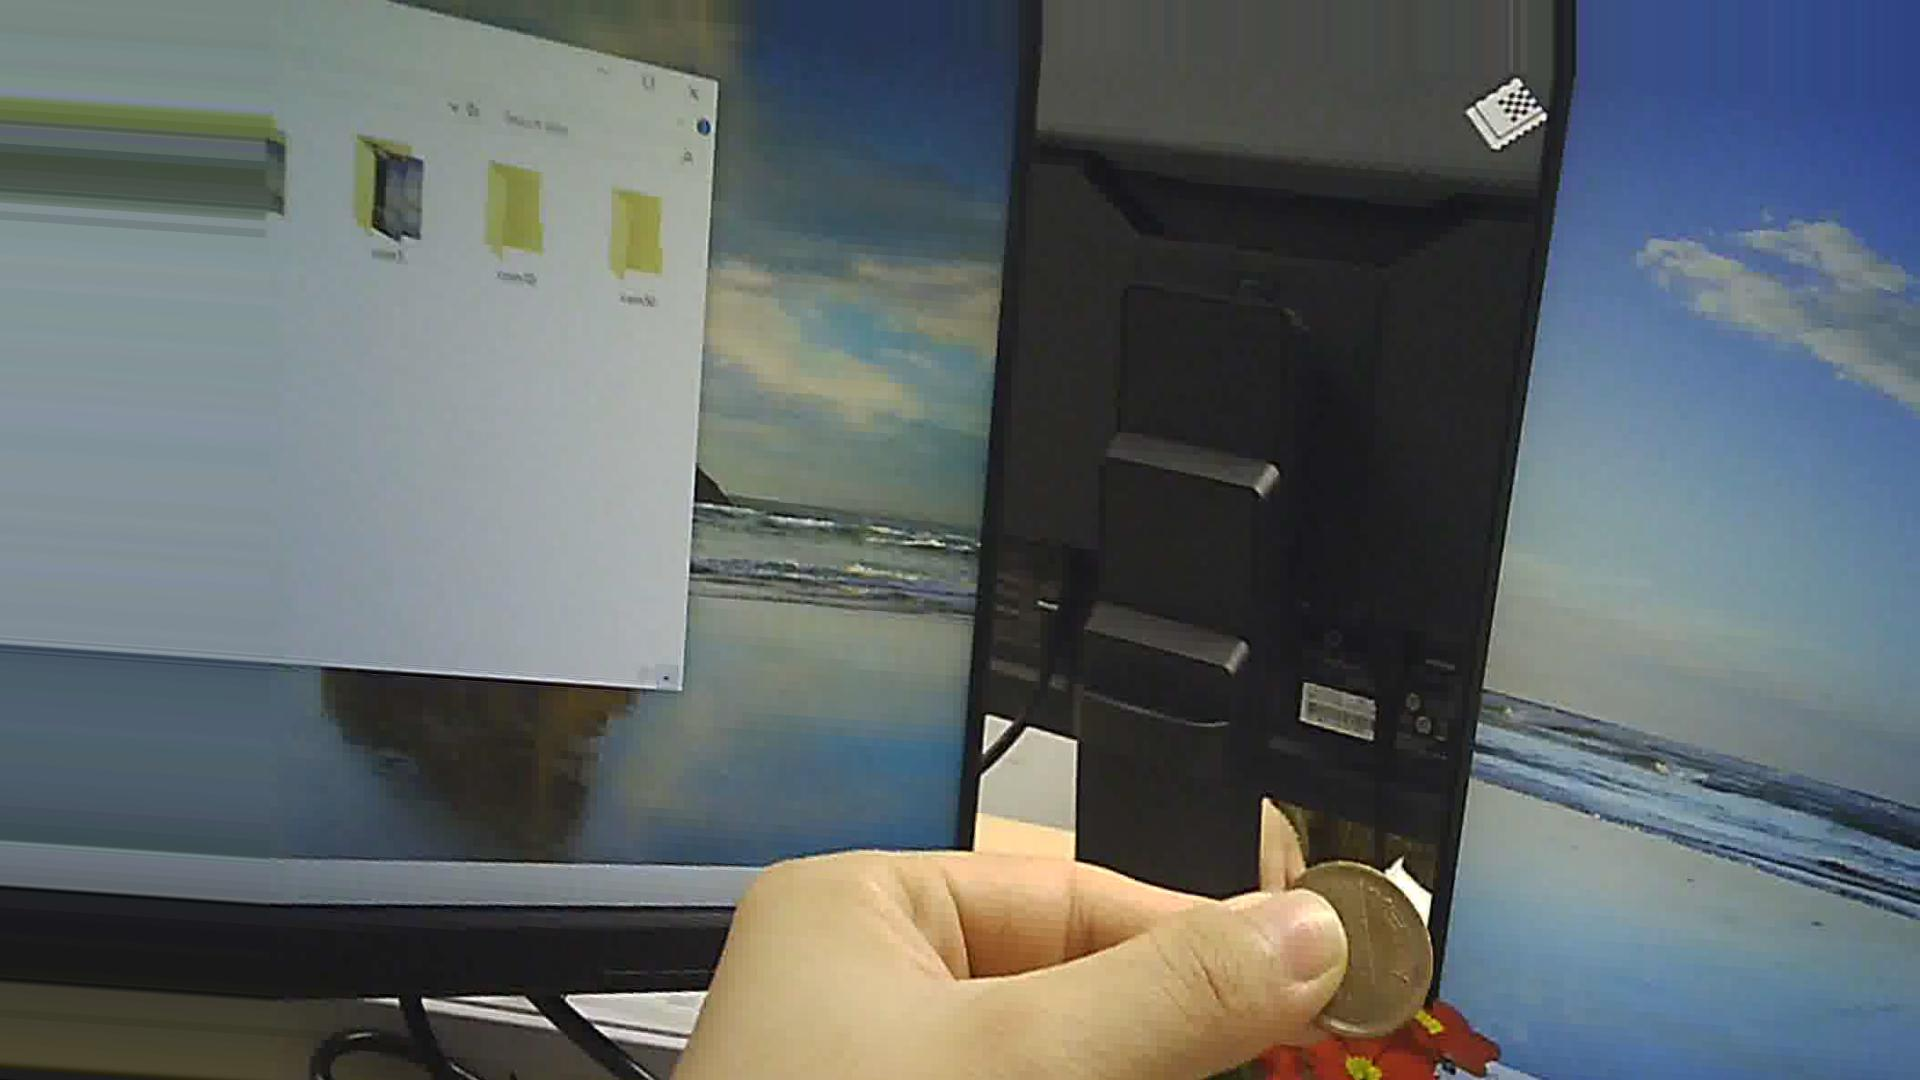10 Yen: (1276, 856, 1445, 1019)
